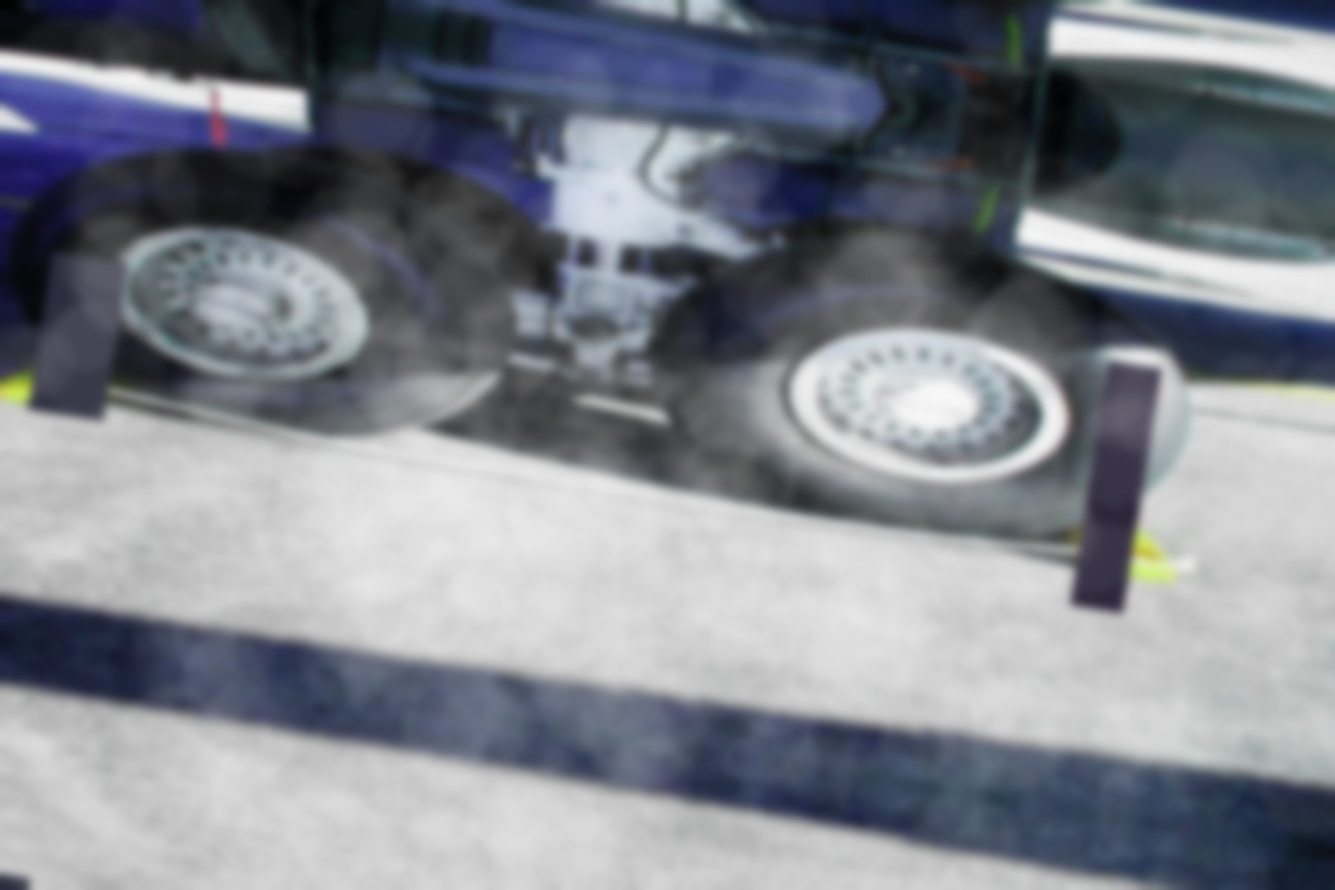chock: (1044, 477, 1187, 586), (0, 324, 133, 423)
wheel: (641, 194, 1215, 567), (0, 111, 545, 461), (244, 130, 574, 296), (747, 196, 997, 275)
